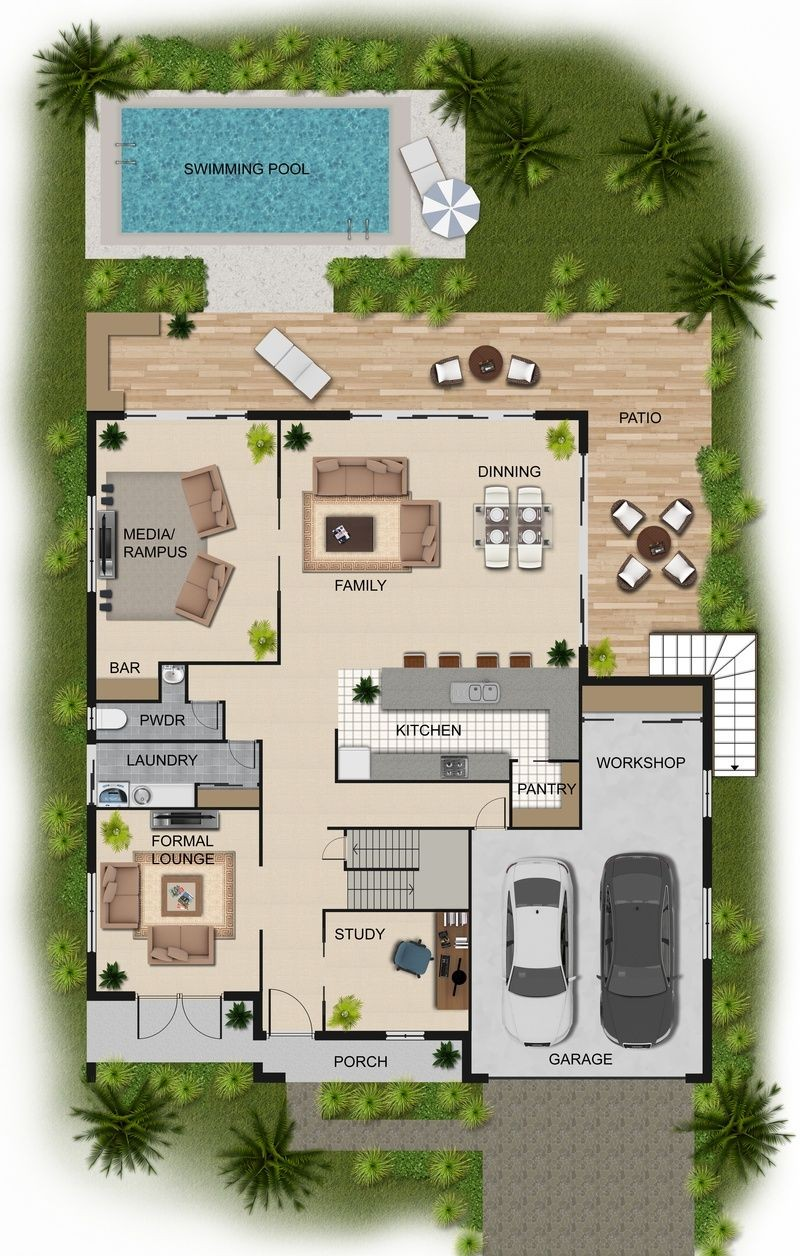room: (274, 409, 582, 787), (275, 410, 590, 678), (85, 412, 282, 667), (85, 804, 265, 1003), (320, 907, 471, 1042), (86, 737, 263, 812), (84, 697, 225, 745), (506, 758, 585, 832)
